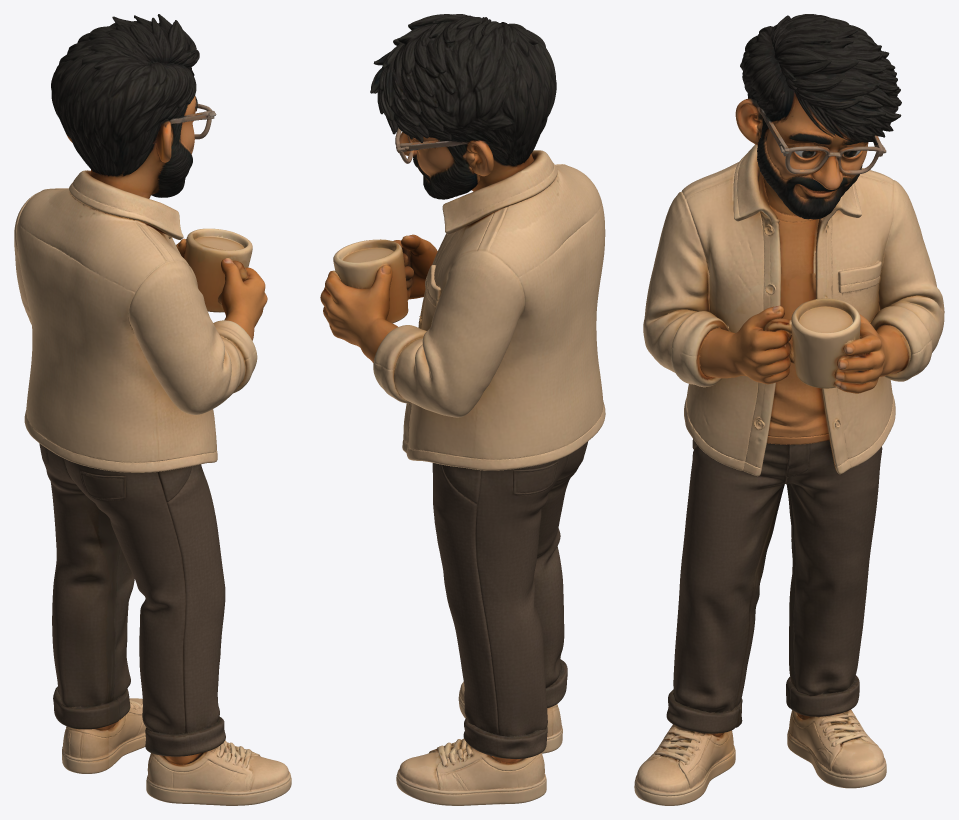
Rendered from human figure 3d model.glb.
3 views of the same model, side by side, from view 1: azimuth 30°, elevation 25°; view 2: azimuth 150°, elevation 25°; view 3: azimuth 270°, elevation 25° (orthographic). The views are drawn at different scales.
Visible parts, largest first — view 1: tripo_node_736ddc9e-434c-4737-9060-ebb6fb1a8565; view 2: tripo_node_736ddc9e-434c-4737-9060-ebb6fb1a8565; view 3: tripo_node_736ddc9e-434c-4737-9060-ebb6fb1a8565.
Boxes of the visible parts, x1,y1,x2,y2 form: tripo_node_736ddc9e-434c-4737-9060-ebb6fb1a8565: [14, 14, 291, 805]; tripo_node_736ddc9e-434c-4737-9060-ebb6fb1a8565: [320, 14, 605, 805]; tripo_node_736ddc9e-434c-4737-9060-ebb6fb1a8565: [634, 14, 944, 805].
Size of the model in its own units: 0.3151 by 0.978 by 0.369.
Materials: 1 (1 with a texture image).
